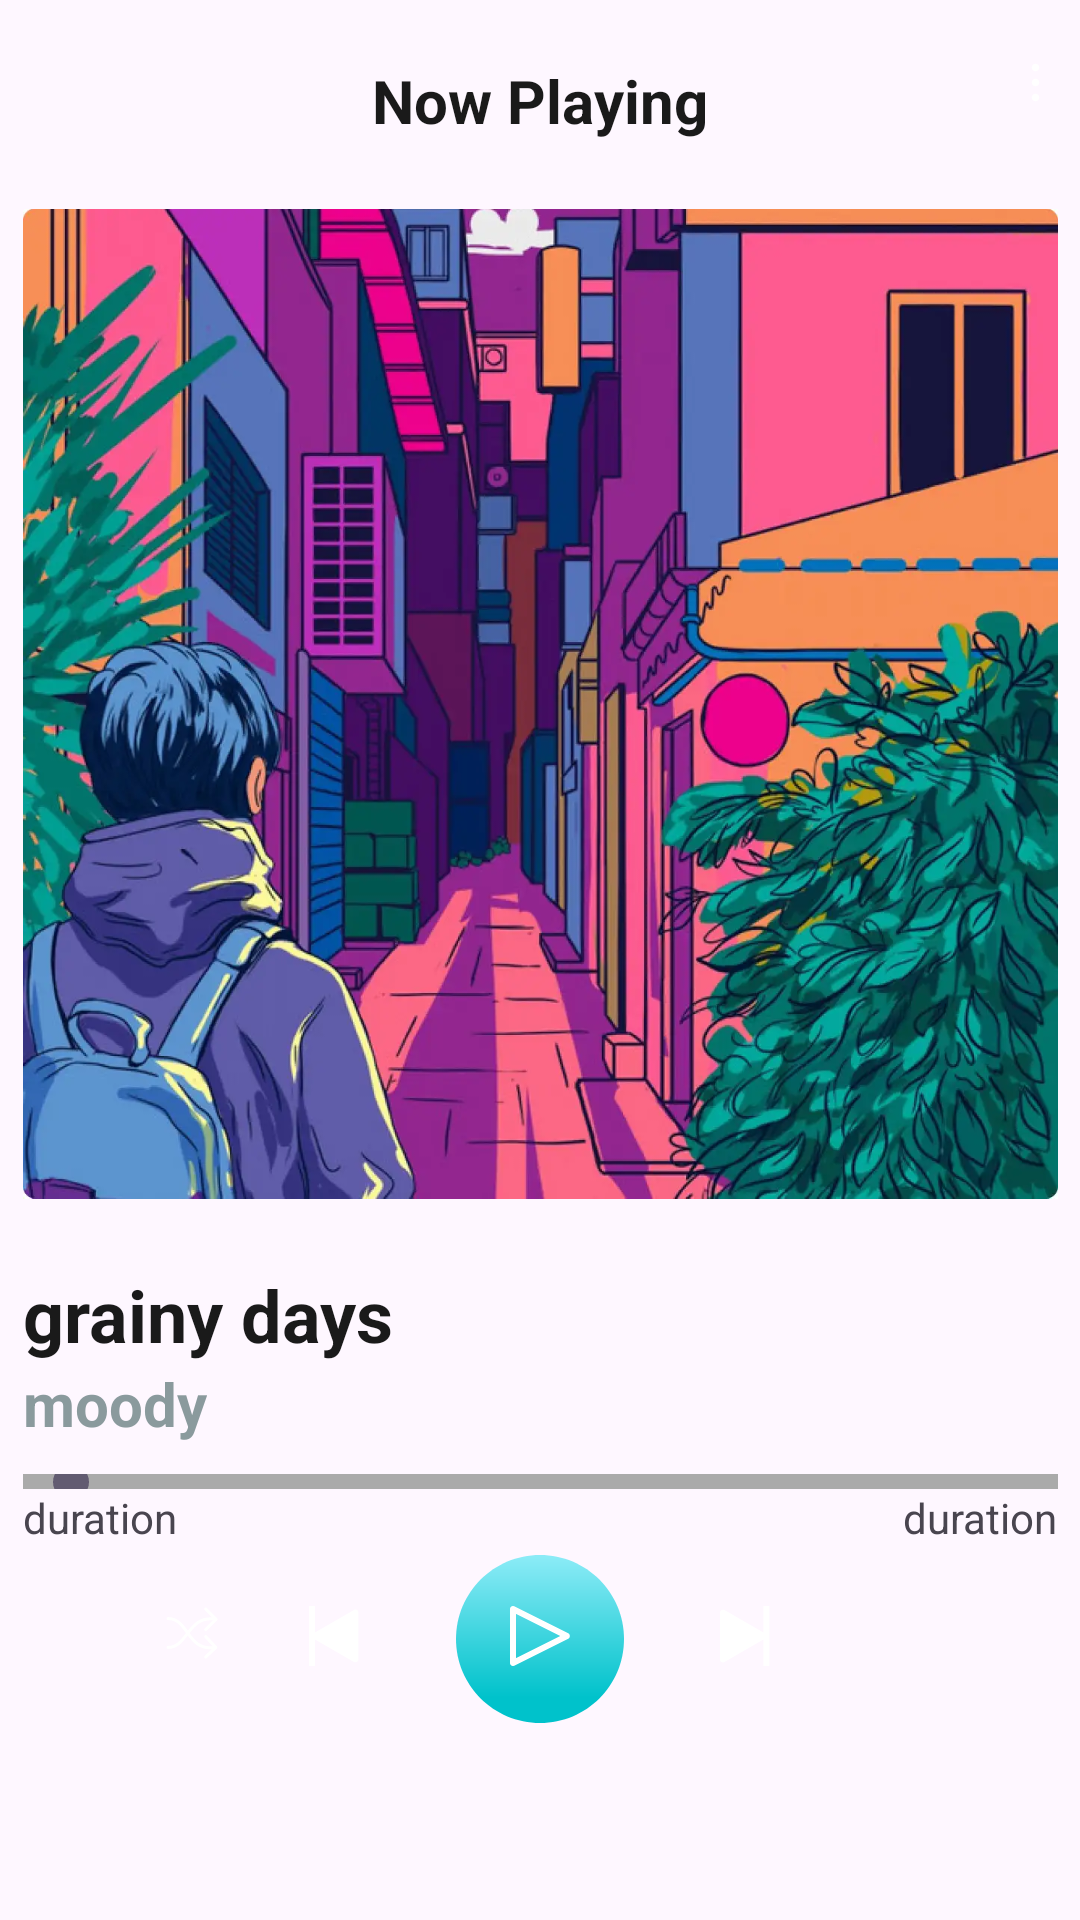

Where to tap for icons on this 1080w x 1920h app screen, as (x,y):
player: (540,1636)
